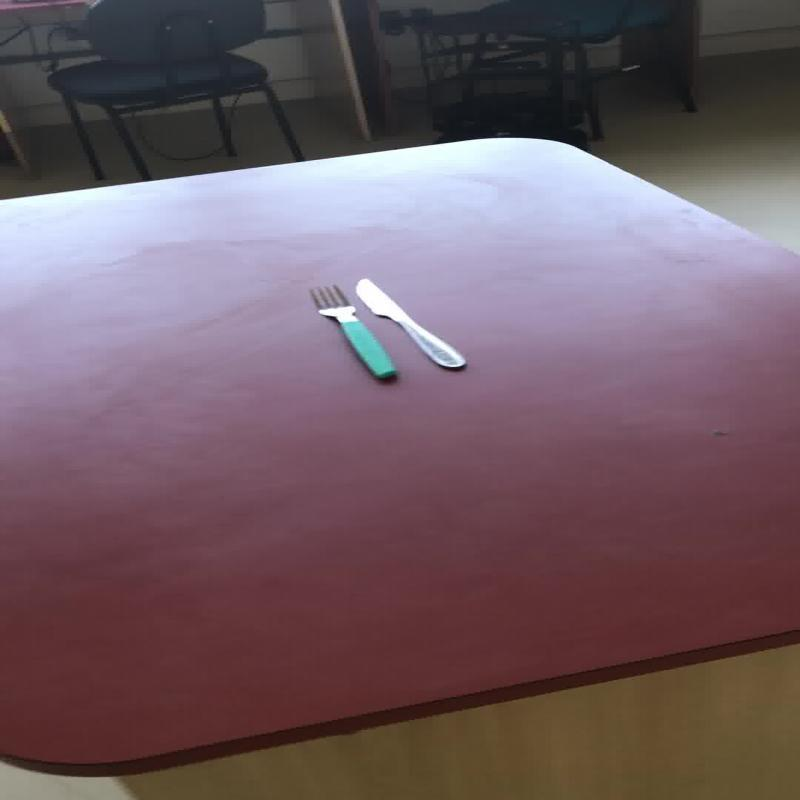fork: (306, 282, 395, 380)
knife: (306, 276, 466, 380), (353, 276, 466, 368)
